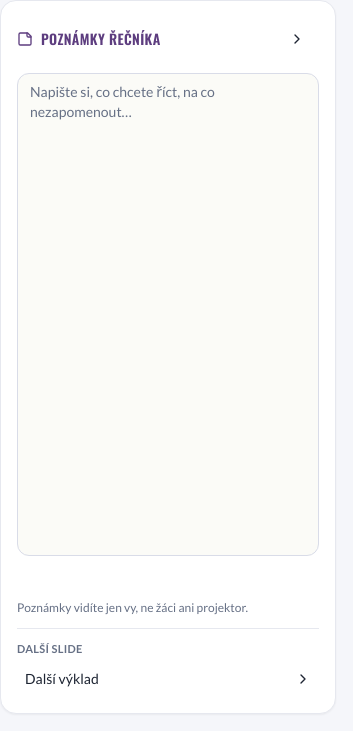
Scenario: TeacherNotesPanel › nabídne opakování při chybě bez ztráty textu
Later steps or results of the test are not shown.
Type "[TEST] Zachovat text" into the text box named "Poznámky řečníka k aktuálnímu slidu" at x=168, y=314, box [17, 73, 319, 556]
Wait 700 ms
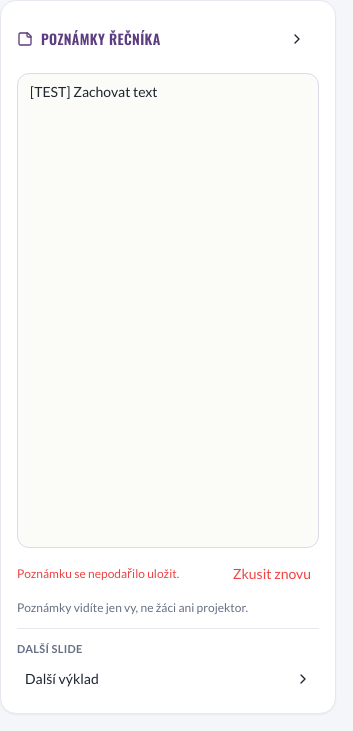
Check: the text "Poznámku se nepodařilo uložit." is shown, box [17, 566, 179, 582]
